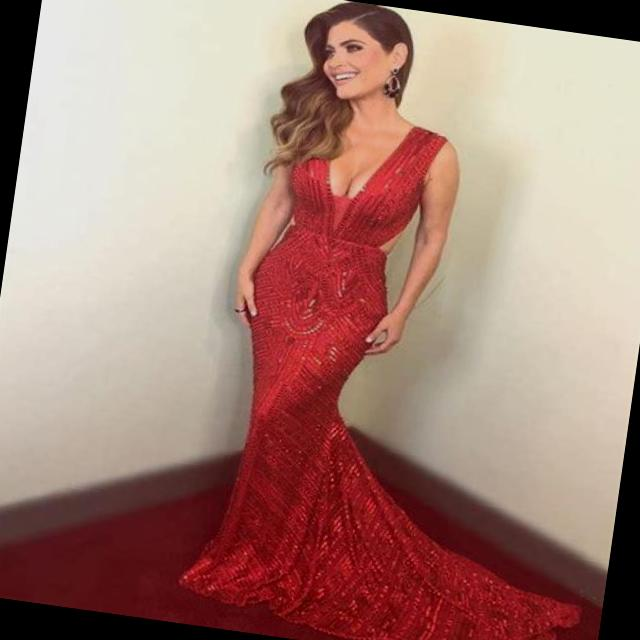dress: (173, 101, 640, 640)
